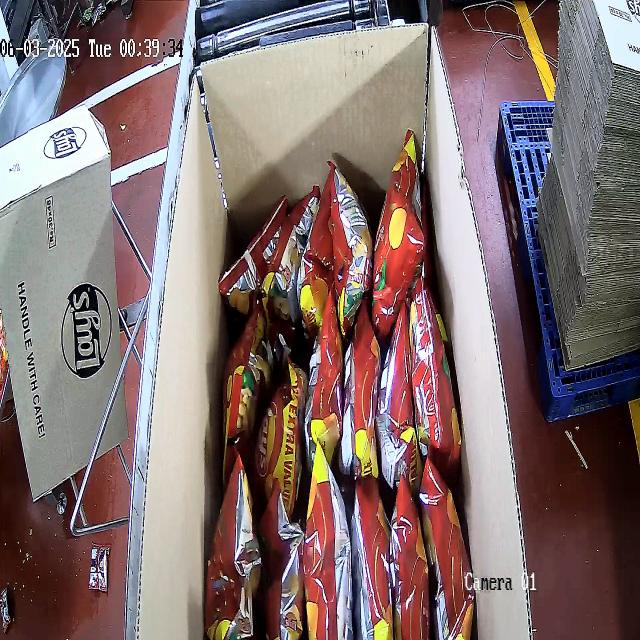MASALA: (206, 129, 475, 638)
